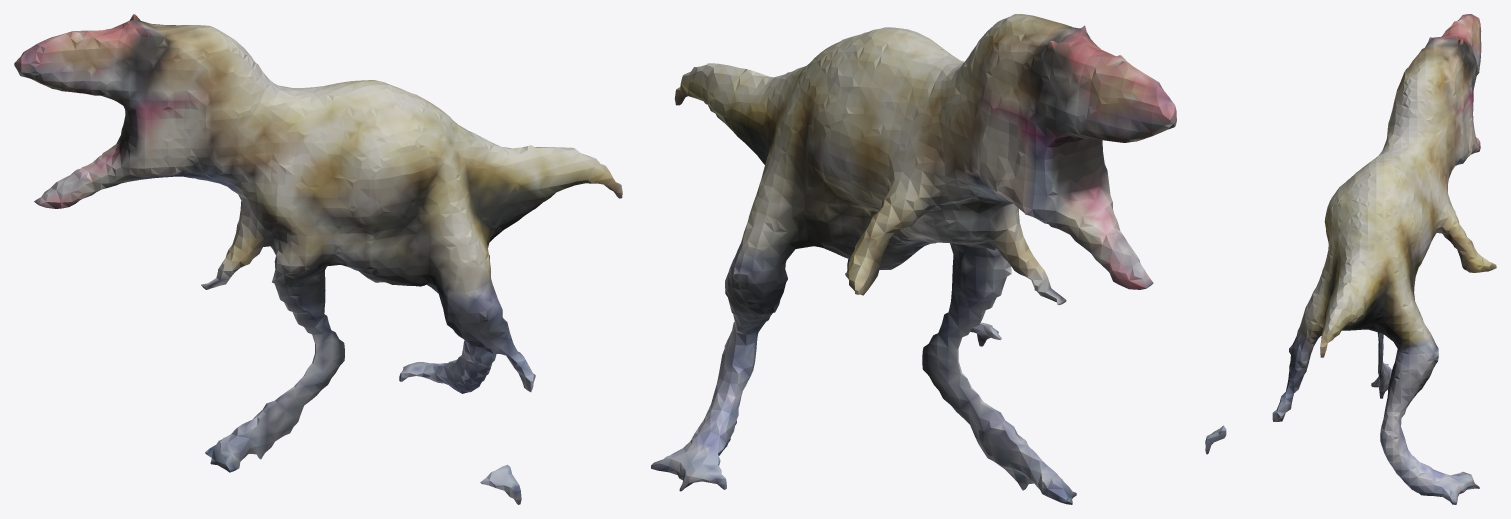
The picture shows the model from 3 angles, left to right: view 1: azimuth 30°, elevation 25°; view 2: azimuth 150°, elevation 25°; view 3: azimuth 270°, elevation 25°; orthographic projection. The views are drawn at different scales.
Visible parts, largest first — view 1: model.glb; view 2: model.glb; view 3: model.glb.
Boxes of the visible parts, x1=… form: model.glb: x1=14, y1=14, x2=622, y2=504; model.glb: x1=651, y1=14, x2=1176, y2=504; model.glb: x1=1205, y1=14, x2=1496, y2=504.
Bounding box in the file's own units: 1 × 0.8208 × 0.6391.
